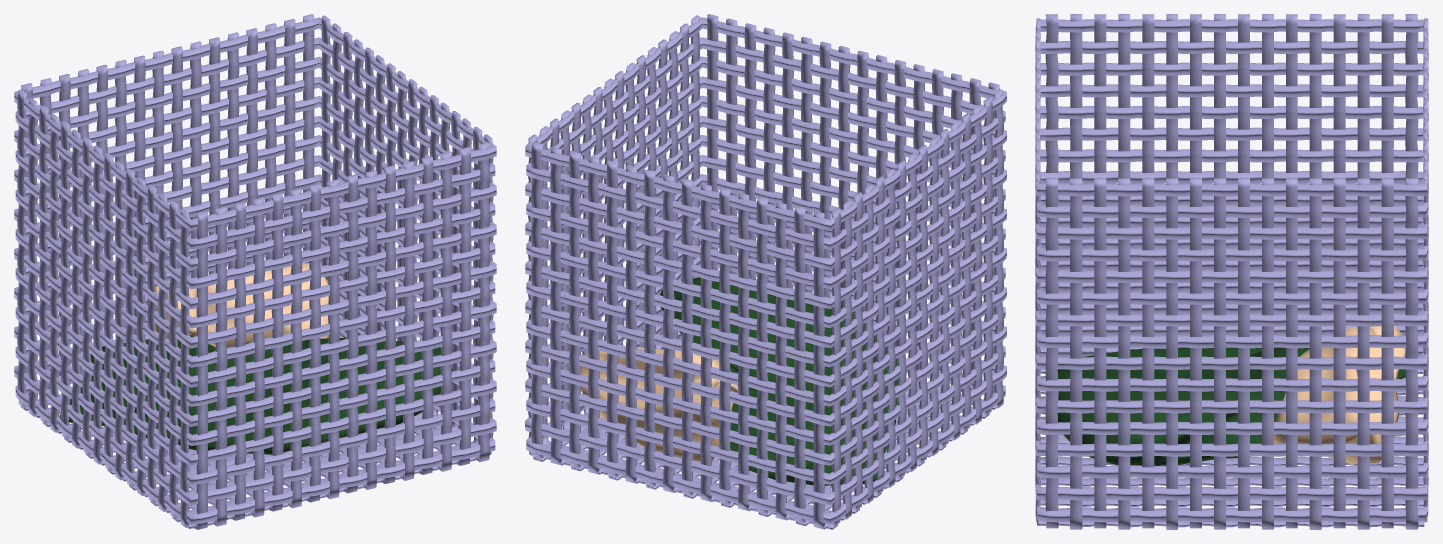
Rendered from laundry.fbx.
The picture shows the model from 3 angles, left to right: view 1: azimuth 30°, elevation 25°; view 2: azimuth 150°, elevation 25°; view 3: azimuth 270°, elevation 25°; orthographic projection. The views are drawn at different scales.
Parts seen in each view (by area): view 1: Icosphere; view 2: Icosphere; view 3: Icosphere.
Boxes of the visible parts, <box> form: Icosphere: <box>14,14,496,529</box>; Icosphere: <box>525,14,1006,529</box>; Icosphere: <box>1035,14,1428,529</box>.
Bounding box in the file's own units: 206 × 203 × 206.
